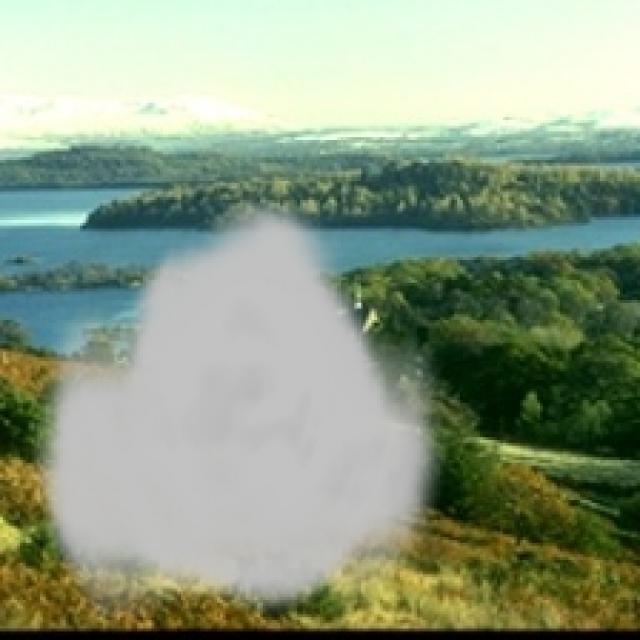smoke: (32, 194, 454, 617)
